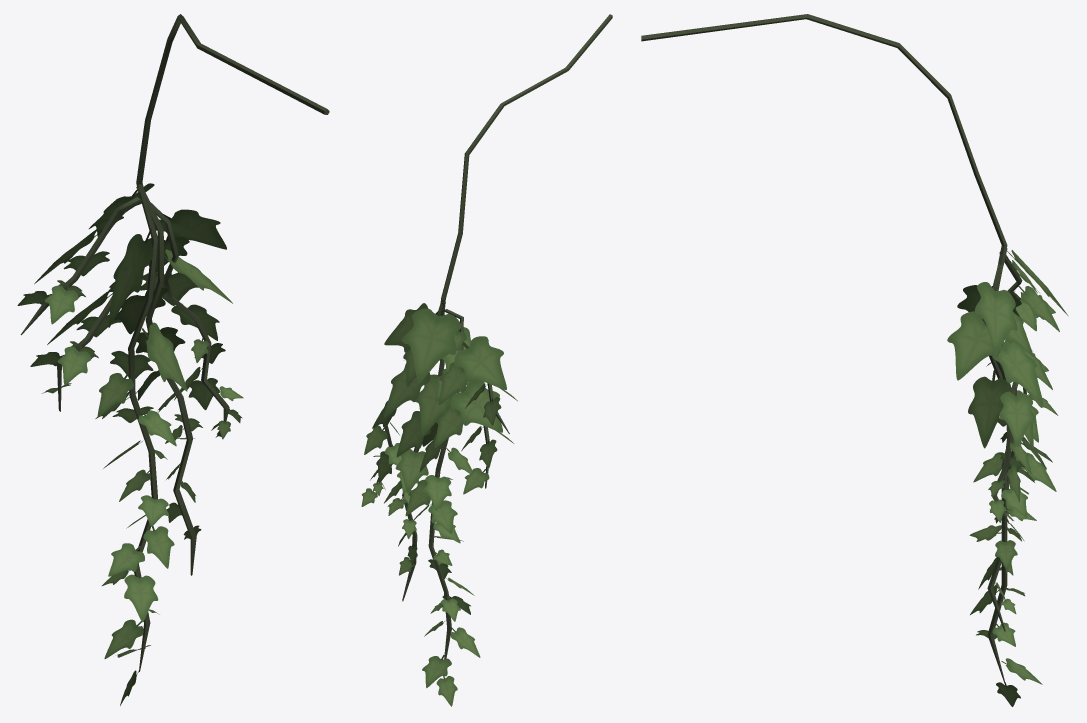
Rendered from HangingIvyCluster (1).fbx.
3 renders of one model, left to right at view 1: azimuth 30°, elevation 25°; view 2: azimuth 150°, elevation 25°; view 3: azimuth 270°, elevation 25°, orthographic. The views are drawn at different scales.
Visible parts, largest first — view 1: MainStem, Stem3, Leaf16, Leaf25, Stem, Leaf19, Leaf8, Stem1, Leaf21, Leaf18, Leaf56, Leaf50 (+12 smaller); view 2: MainStem, Leaf15, Leaf47, Leaf58, Leaf18, Leaf24, Leaf38, Leaf37, Leaf48, Leaf57, Leaf22, Leaf25 (+6 smaller); view 3: MainStem, Leaf17, Leaf25, Leaf19, Leaf24, Leaf27, Stem3.
Part boxes in pixels (x1,y1,x2,y2): MainStem: [128, 14, 329, 671]; Stem3: [136, 187, 196, 575]; Leaf16: [108, 229, 153, 327]; Leaf25: [154, 209, 226, 249]; Stem: [147, 201, 229, 421]; Leaf19: [142, 322, 187, 391]; Leaf8: [124, 570, 158, 622]; Stem1: [20, 197, 141, 335]; Leaf21: [97, 372, 133, 417]; Leaf18: [114, 287, 168, 334]; Leaf56: [58, 346, 91, 385]; Leaf50: [45, 285, 78, 324]; MainStem: [428, 14, 612, 659]; Leaf15: [402, 304, 461, 382]; Leaf47: [454, 336, 506, 389]; Leaf58: [450, 380, 502, 432]; Leaf18: [415, 374, 454, 435]; Leaf24: [384, 363, 430, 417]; Leaf38: [395, 447, 428, 492]; Leaf37: [396, 411, 430, 457]; Leaf48: [438, 362, 467, 405]; Leaf57: [434, 405, 463, 447]; Leaf22: [423, 472, 451, 510]; Leaf25: [384, 303, 428, 352]; MainStem: [641, 14, 1015, 683]; Leaf17: [947, 311, 1000, 380]; Leaf25: [975, 280, 1017, 354]; Leaf19: [968, 370, 1010, 448]; Leaf24: [992, 338, 1043, 405]; Leaf27: [999, 387, 1035, 447]; Stem3: [987, 248, 1013, 631].
Size of the model in its own units: 0.8927 by 3.17 by 1.82.
